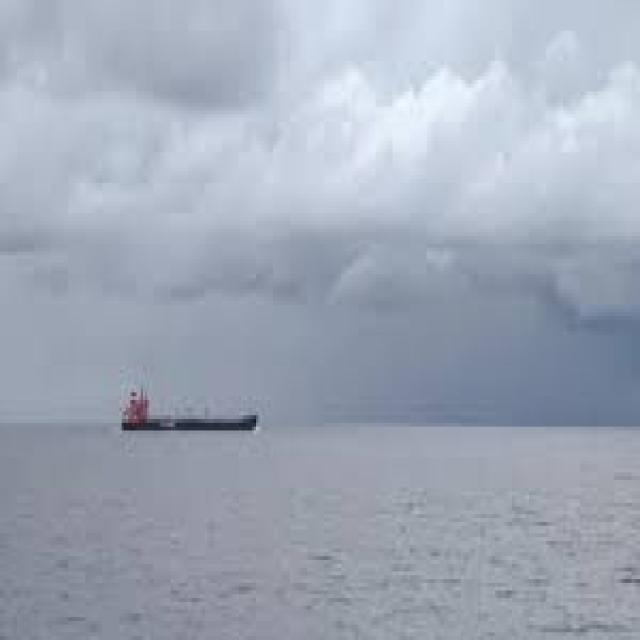cargoship: (116, 373, 264, 437)
